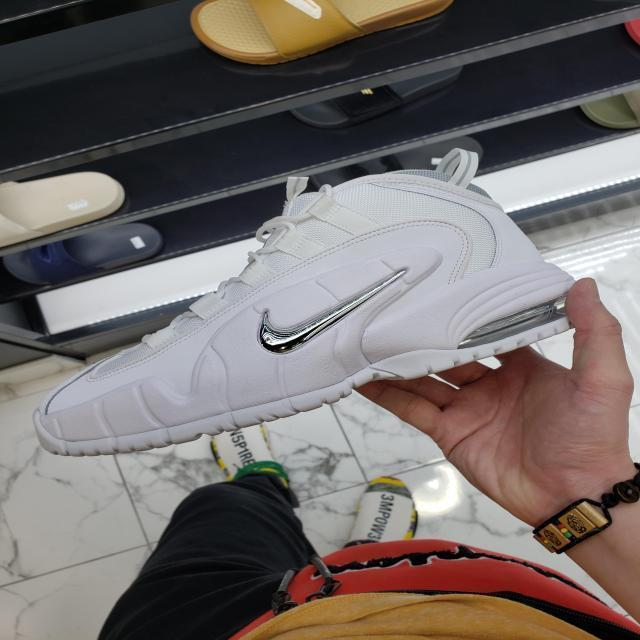shoes: (28, 152, 595, 458)
